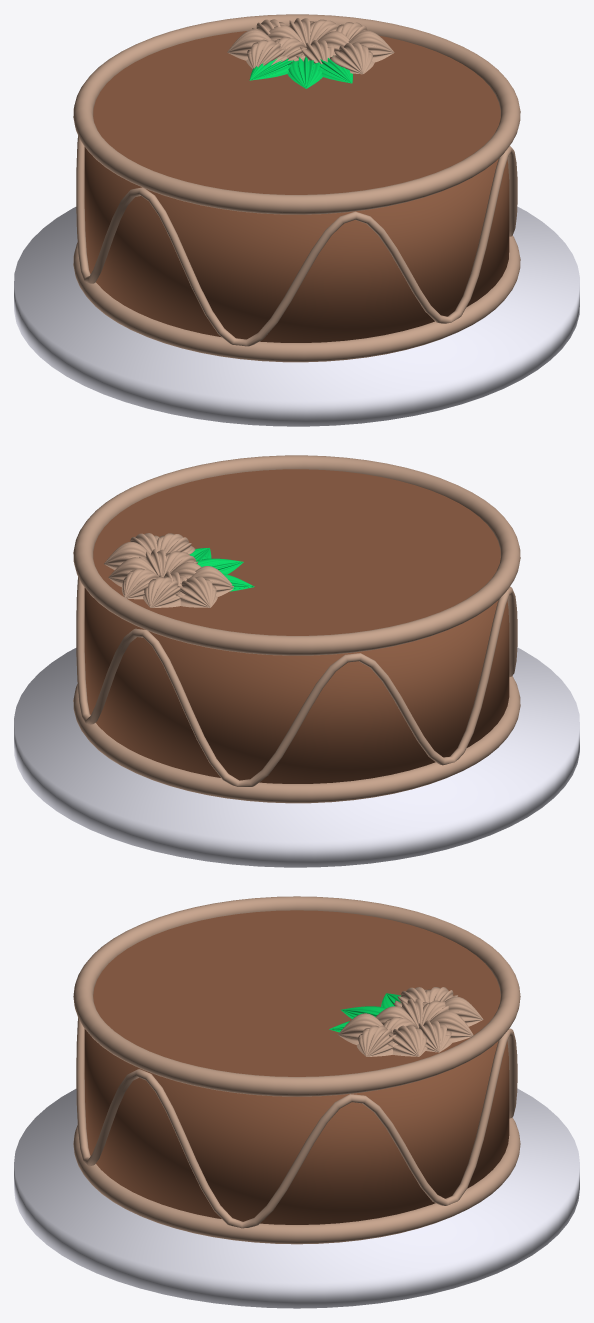
File: round_chocolate_style2.glb
3 views of the same model, one above another, from view 1: azimuth 30°, elevation 25°; view 2: azimuth 150°, elevation 25°; view 3: azimuth 270°, elevation 25° (orthographic).
Parts seen in each view (by area): view 1: CakeBase, IcingStand, CakeTopCircle, IcingRing, IcingRing.001, WaveIcing, leaf.001, design10, design11, design7, design12, design3; view 2: CakeBase, IcingStand, CakeTopCircle, IcingRing, IcingRing.001, WaveIcing, design12, design9, leaf.001, design4, design8, design11 (+2 smaller); view 3: CakeBase, IcingStand, CakeTopCircle, IcingRing, IcingRing.001, WaveIcing, design7, design8, design5, design4, design10, leaf.001 (+1 smaller).
Part boxes in pixels (<box>): CakeBase: <box>84,147,509,342</box>; IcingStand: <box>14,206,579,426</box>; CakeTopCircle: <box>93,31,500,194</box>; IcingRing: <box>73,14,520,214</box>; IcingRing.001: <box>73,235,520,362</box>; WaveIcing: <box>76,135,517,346</box>; leaf.001: <box>249,57,352,88</box>; design10: <box>330,42,374,74</box>; design11: <box>246,39,288,68</box>; design7: <box>349,30,394,62</box>; design12: <box>227,29,271,60</box>; design3: <box>296,40,334,64</box>; CakeBase: <box>84,588,509,783</box>; IcingStand: <box>14,647,579,867</box>; CakeTopCircle: <box>93,469,500,635</box>; IcingRing: <box>73,455,520,655</box>; IcingRing.001: <box>73,676,520,803</box>; WaveIcing: <box>76,577,517,786</box>; design12: <box>175,576,217,607</box>; design9: <box>143,576,185,607</box>; leaf.001: <box>189,548,254,591</box>; design4: <box>121,568,159,599</box>; design8: <box>104,542,150,570</box>; design11: <box>190,566,233,596</box>; CakeBase: <box>84,1029,509,1224</box>; IcingStand: <box>14,1088,579,1308</box>; CakeTopCircle: <box>93,910,500,1076</box>; IcingRing: <box>73,896,520,1096</box>; IcingRing.001: <box>73,1117,520,1244</box>; WaveIcing: <box>76,1018,517,1228</box>; design7: <box>356,1025,397,1056</box>; design8: <box>387,1025,427,1056</box>; design5: <box>419,1020,451,1052</box>; design4: <box>430,1011,473,1042</box>; design10: <box>338,1013,383,1044</box>; leaf.001: <box>329,993,400,1032</box>.
Bounding box in the file's own units: 4 × 1.69 × 4.
